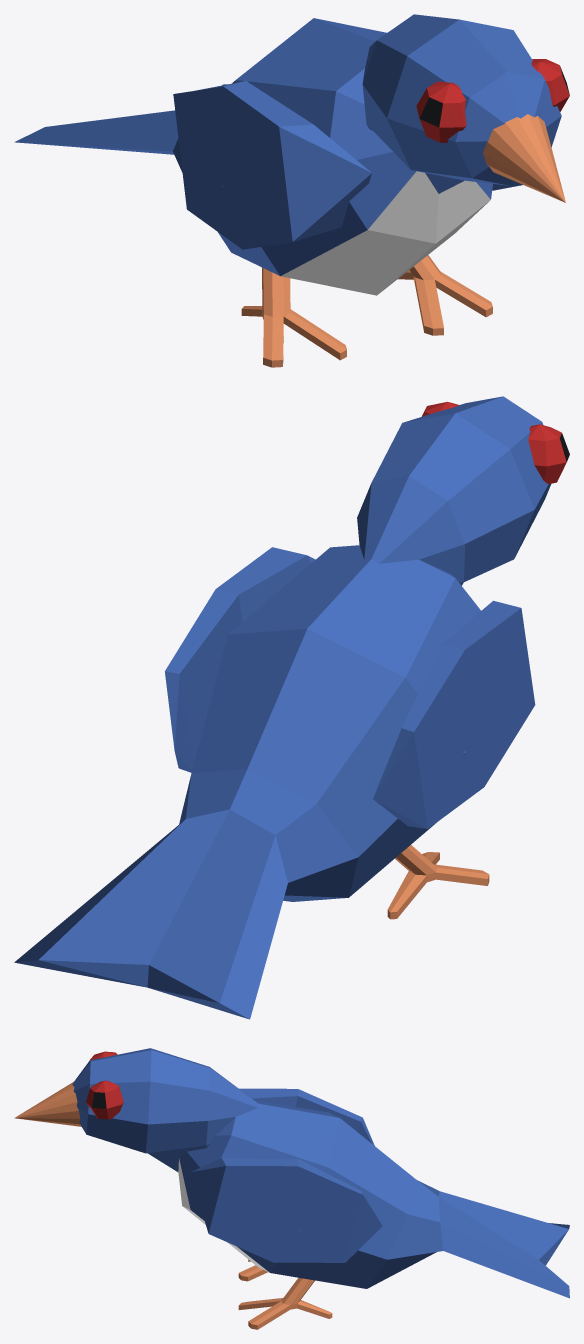
File: BirdSit.fbx
3 renders of one model, top to bottom at view 1: azimuth 30°, elevation 25°; view 2: azimuth 150°, elevation 25°; view 3: azimuth 270°, elevation 25°, orthographic. The views are drawn at different scales.
Visible parts, largest first — view 1: birdFeet.001; view 2: birdFeet.001; view 3: birdFeet.001.
Part boxes in pixels (box(x1,y1,x2,y2)): birdFeet.001: box(14, 14, 569, 367); birdFeet.001: box(14, 396, 569, 1019); birdFeet.001: box(14, 1048, 569, 1329).
Size of the model in its own units: 0.0661 by 0.0967 by 0.1998.
